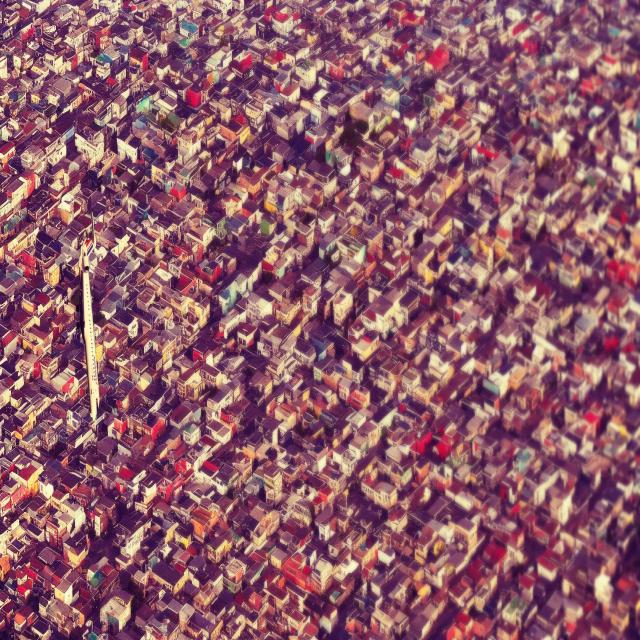airplane: (78, 212, 101, 426)
